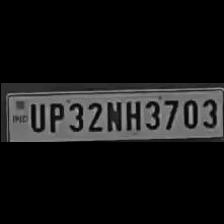0: (178, 96, 198, 128)
2: (84, 97, 103, 130)
3: (142, 96, 160, 130), (200, 94, 218, 128), (64, 97, 82, 130)
7: (160, 96, 178, 128)
H: (122, 97, 142, 131)
N: (104, 97, 122, 130)
P: (44, 98, 64, 132)
U: (26, 98, 44, 132)
